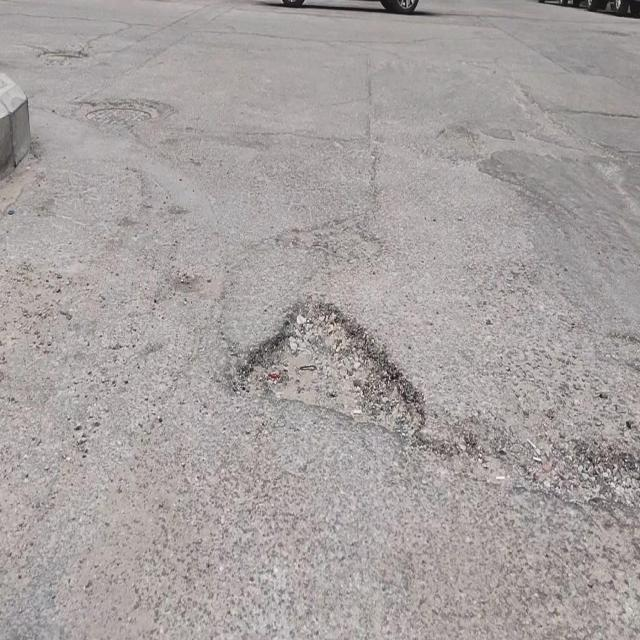Potholes: (228, 292, 426, 440)
